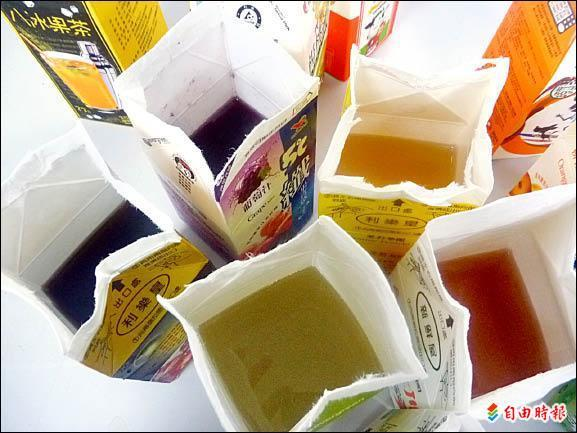cardboard: (146, 218, 426, 433), (102, 2, 338, 241), (0, 122, 201, 386), (394, 188, 577, 417), (312, 49, 504, 229), (3, 0, 170, 123), (482, 0, 577, 194)
